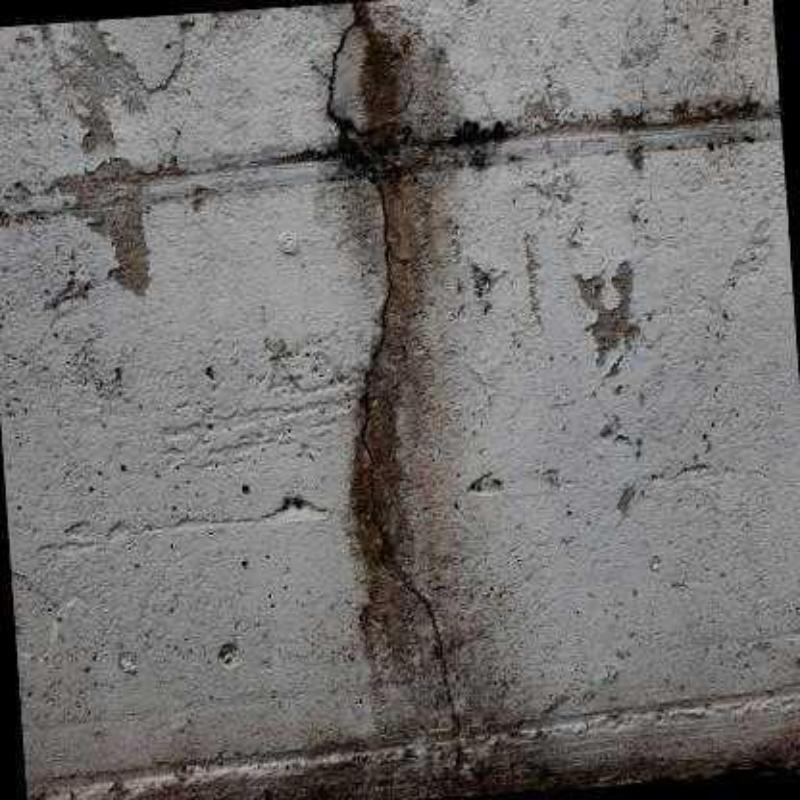pothole: (321, 10, 465, 772)
